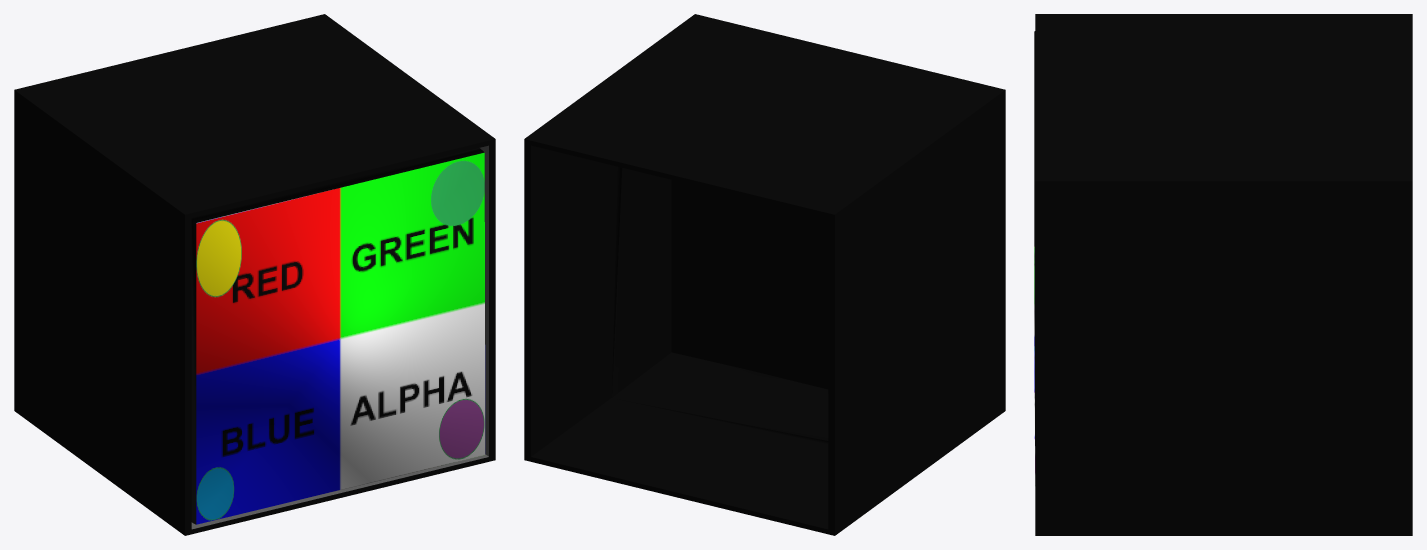
The model's file is frameAmerican.glb.
3 renders of one model, left to right at view 1: azimuth 30°, elevation 25°; view 2: azimuth 150°, elevation 25°; view 3: azimuth 270°, elevation 25°, orthographic. The views are drawn at different scales.
Visible parts, largest first — view 1: Material2, A_PaintingMesh, Material3.001; view 2: Material2, Material3.004, Mat, A_PaintingMesh; view 3: Material2, A_PaintingMesh.
Part boxes in pixels (left/top/right/bottom): Material2: left=14, top=14, right=495, bottom=535; A_PaintingMesh: left=191, top=148, right=485, bottom=524; Material3.001: left=191, top=145, right=488, bottom=529; Material2: left=524, top=14, right=1005, bottom=535; Material3.004: left=531, top=145, right=828, bottom=529; Mat: left=671, top=180, right=828, bottom=389; A_PaintingMesh: left=612, top=167, right=828, bottom=443; Material2: left=1035, top=14, right=1412, bottom=535; A_PaintingMesh: left=1034, top=31, right=1035, bottom=485.
Size of what is drawn, in the model's own units: 1.07 by 1.05 by 1.02.
Materials: 6 (1 with a texture image).
